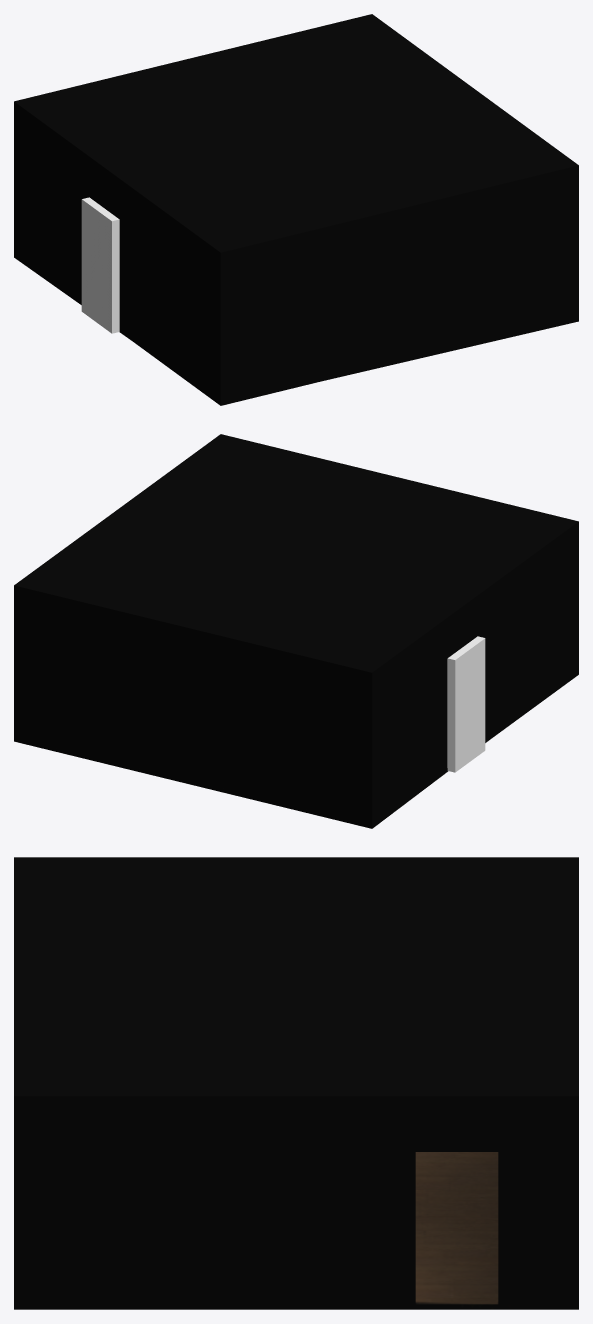
Rendered from room_lifesong_engine.obj.
3 views of the same model, one above another, from view 1: azimuth 30°, elevation 25°; view 2: azimuth 150°, elevation 25°; view 3: azimuth 270°, elevation 25° (orthographic). The views are drawn at different scales.
Visible parts, largest first — view 1: Rectangle052, celling_5W001, PH_DOOR_lifesong_manager, Rectangle056; view 2: Rectangle052, celling_5W001, PH_DOOR_lifesong_manager, Rectangle056; view 3: celling_5W001, Rectangle052, Rectangle056.
Part boxes in pixels (x1,y1,x2,y2): Rectangle052: [14, 105, 578, 405]; celling_5W001: [14, 14, 578, 255]; PH_DOOR_lifesong_manager: [81, 197, 119, 333]; Rectangle056: [14, 254, 578, 405]; Rectangle052: [14, 525, 578, 825]; celling_5W001: [14, 434, 578, 675]; PH_DOOR_lifesong_manager: [447, 636, 485, 772]; Rectangle056: [14, 738, 489, 828]; celling_5W001: [14, 857, 578, 1101]; Rectangle052: [14, 1100, 578, 1305]; Rectangle056: [14, 1152, 578, 1309].
Size of the model in its own units: 102 by 41.65 by 100.
